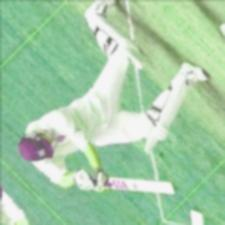batsman: (1, 1, 214, 202)
